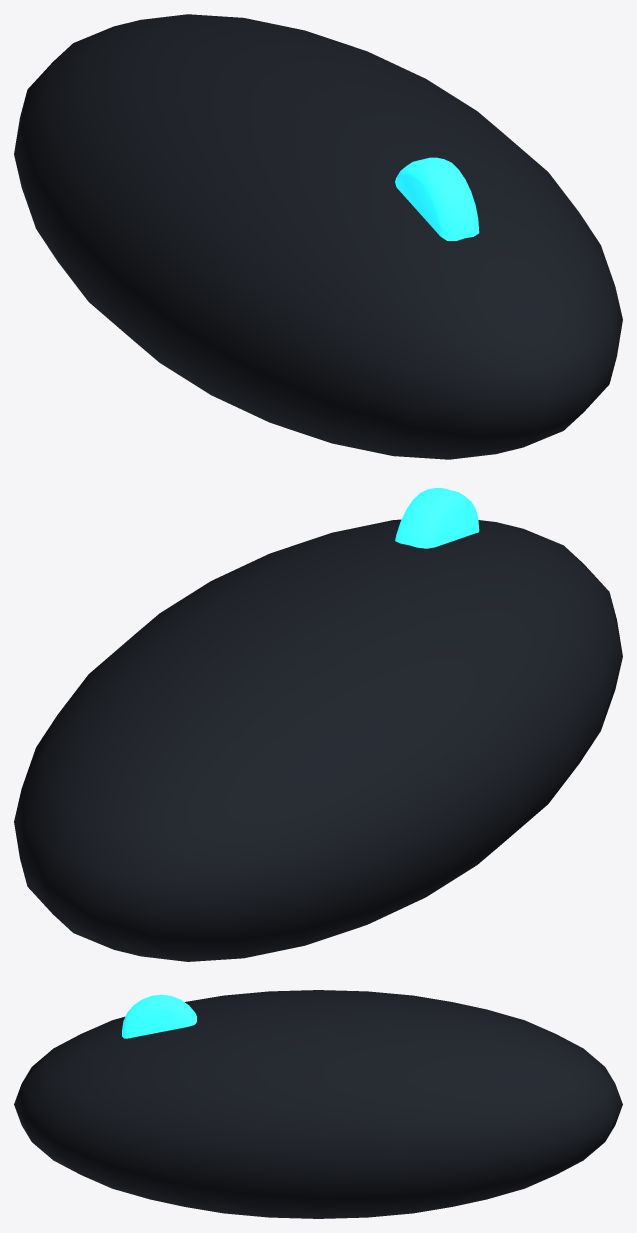
File: mouse_wireless-bf7ba60904aa.glb
3 renders of one model, top to bottom at view 1: azimuth 30°, elevation 25°; view 2: azimuth 150°, elevation 25°; view 3: azimuth 270°, elevation 25°, orthographic. The views are drawn at different scales.
Visible parts, largest first — view 1: Shell, Scroll_Wheel; view 2: Shell, Scroll_Wheel; view 3: Shell, Scroll_Wheel.
Part boxes in pixels (x1,y1,x2,y2): Shell: (14,14,622,459); Scroll_Wheel: (395,157,479,240); Shell: (14,519,622,961); Scroll_Wheel: (395,488,479,548); Shell: (14,990,622,1218); Scroll_Wheel: (122,994,196,1038).
Size of the model in its own units: 0.064 by 0.045 by 0.124.
